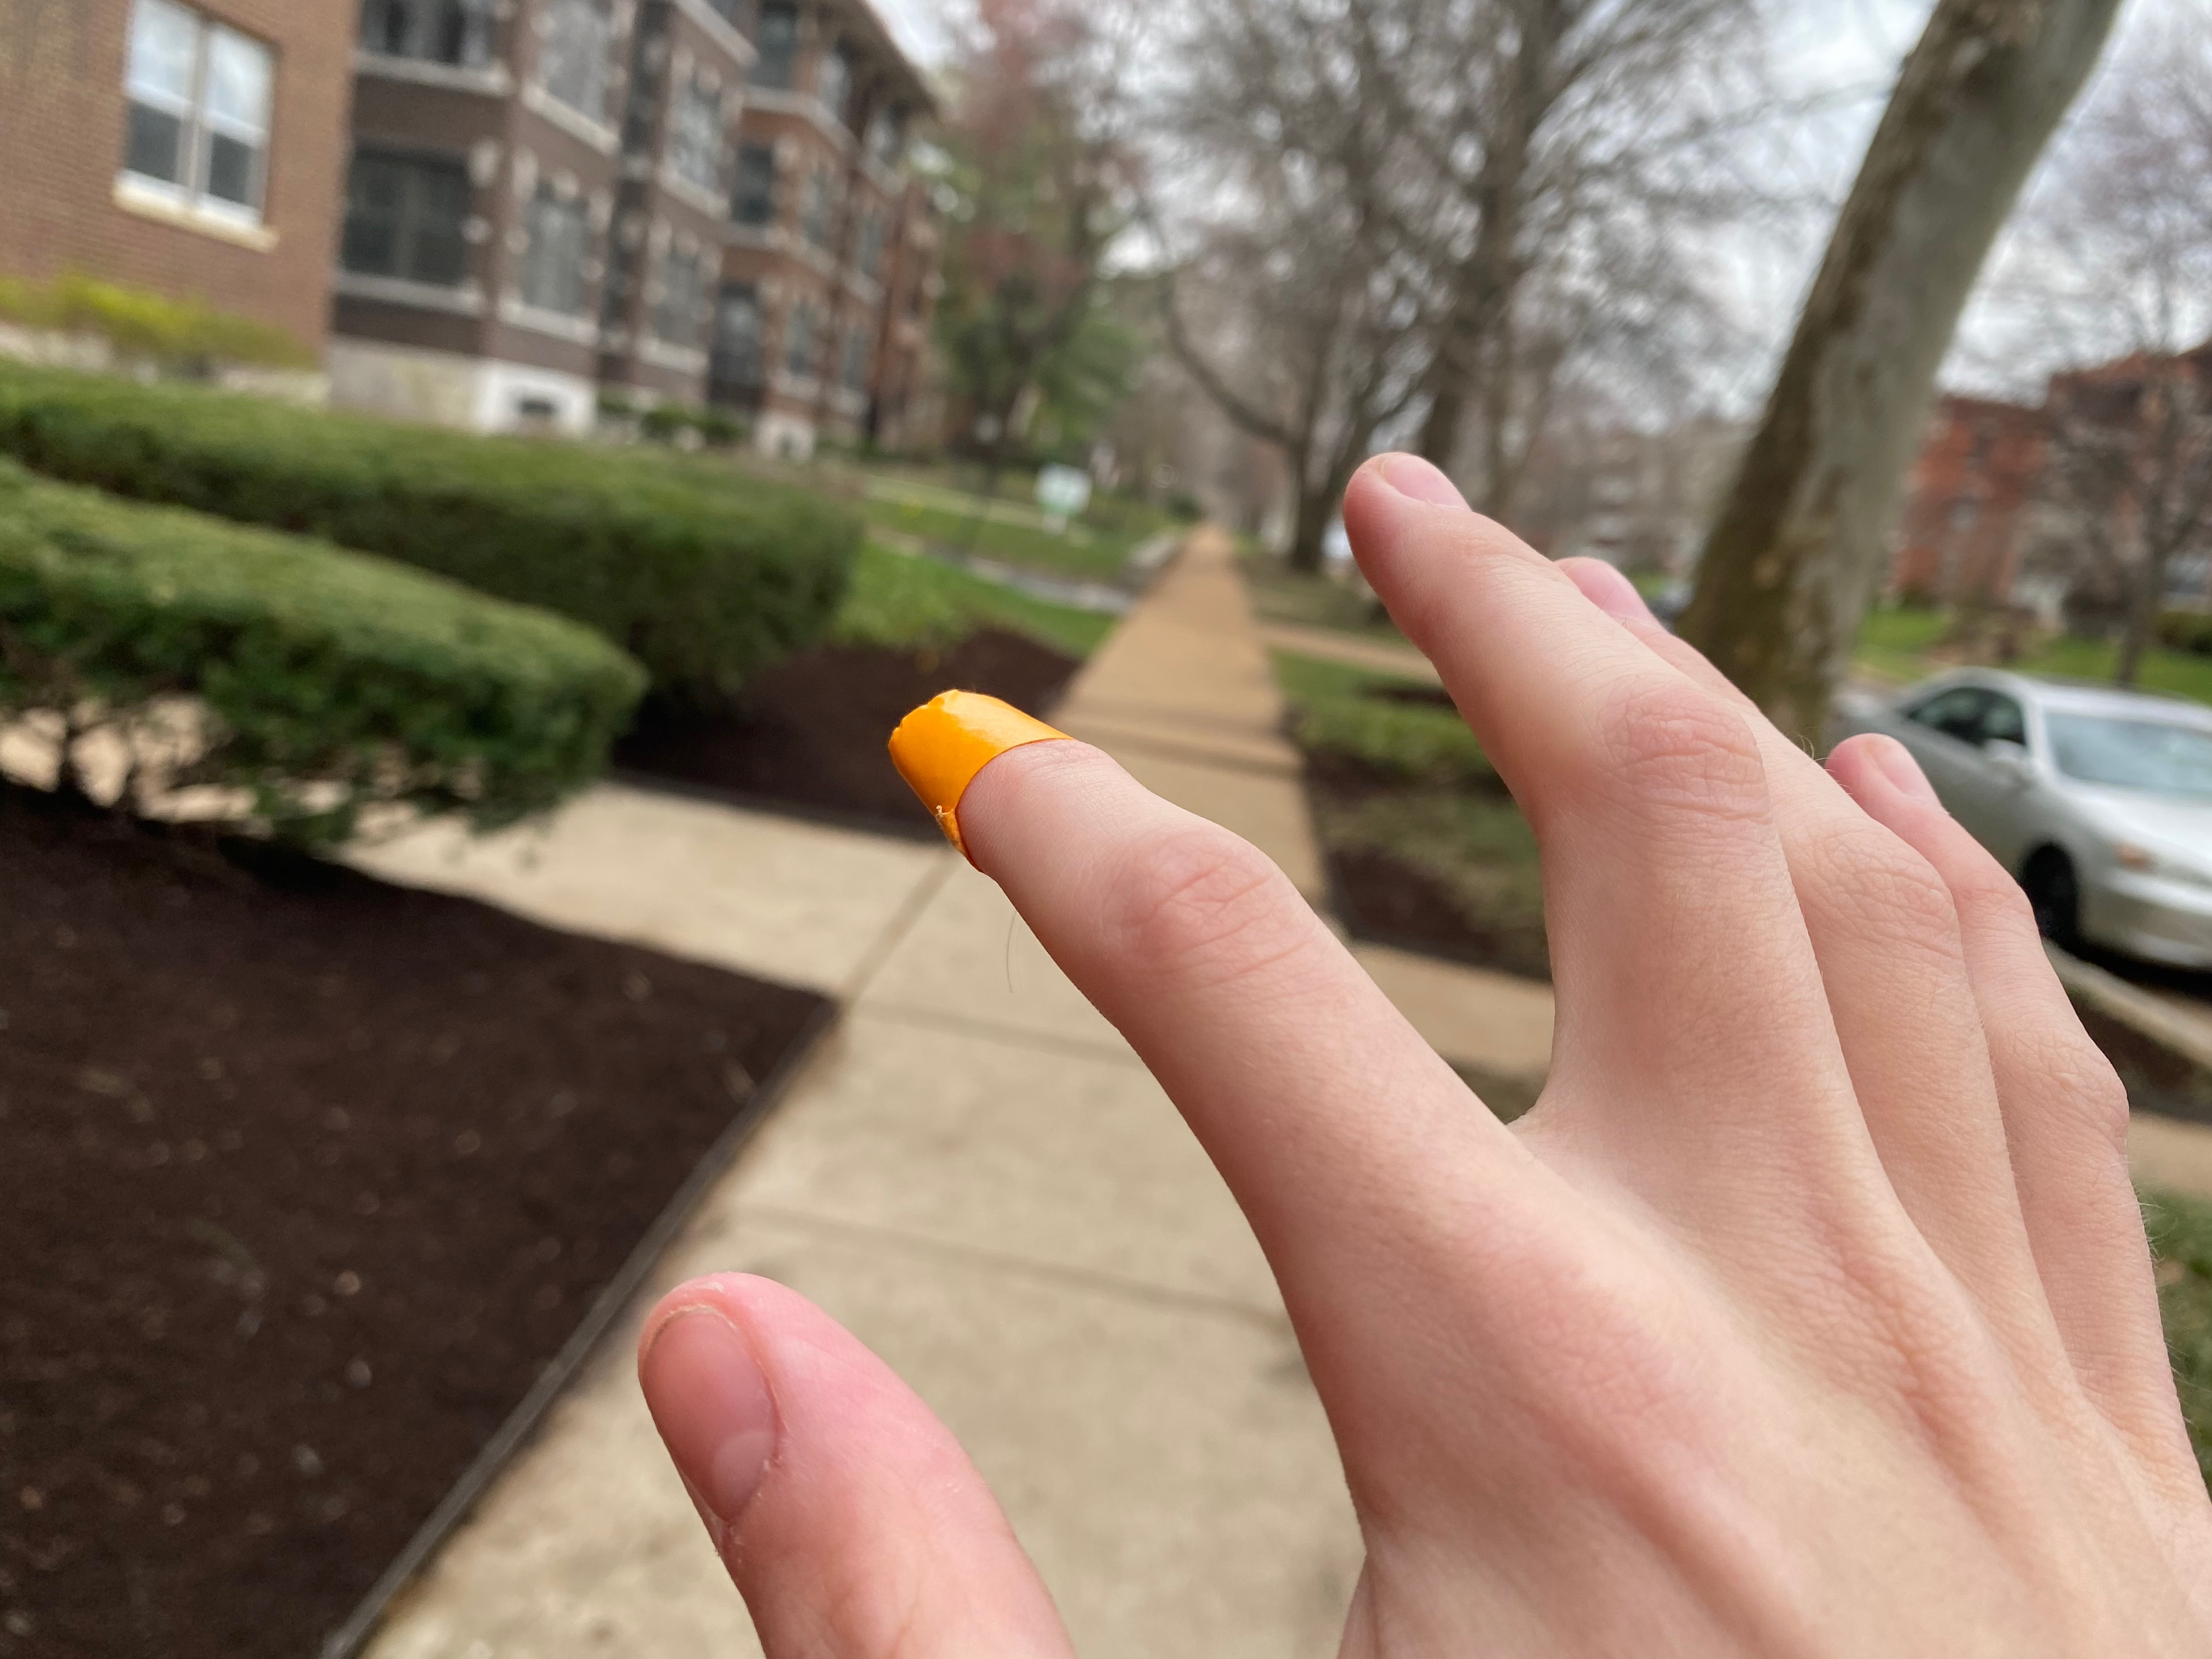fingertip: (846, 669, 1123, 897)
